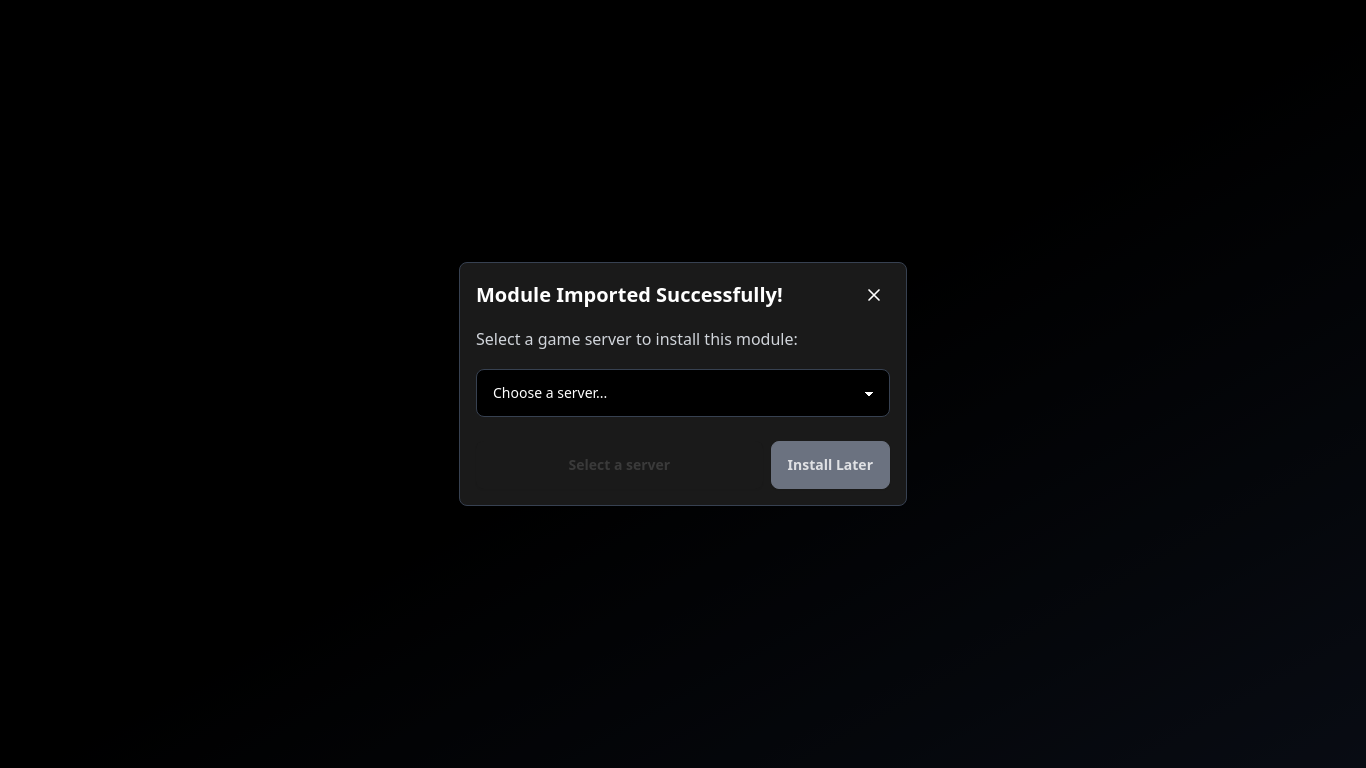
it: InstallModuleModal › enables install button only when server selected
The width and height of the screenshot is (1366, 768).
Expected: the button "Select a server" is disabled, [476, 441, 763, 489]
Select "Choose a server..." in the dropdown at {"x": 683, "y": 393}, box [476, 369, 890, 417]
Select "Test Server 1 (7d2d)" in the dropdown at {"x": 683, "y": 393}, box [476, 369, 890, 417]
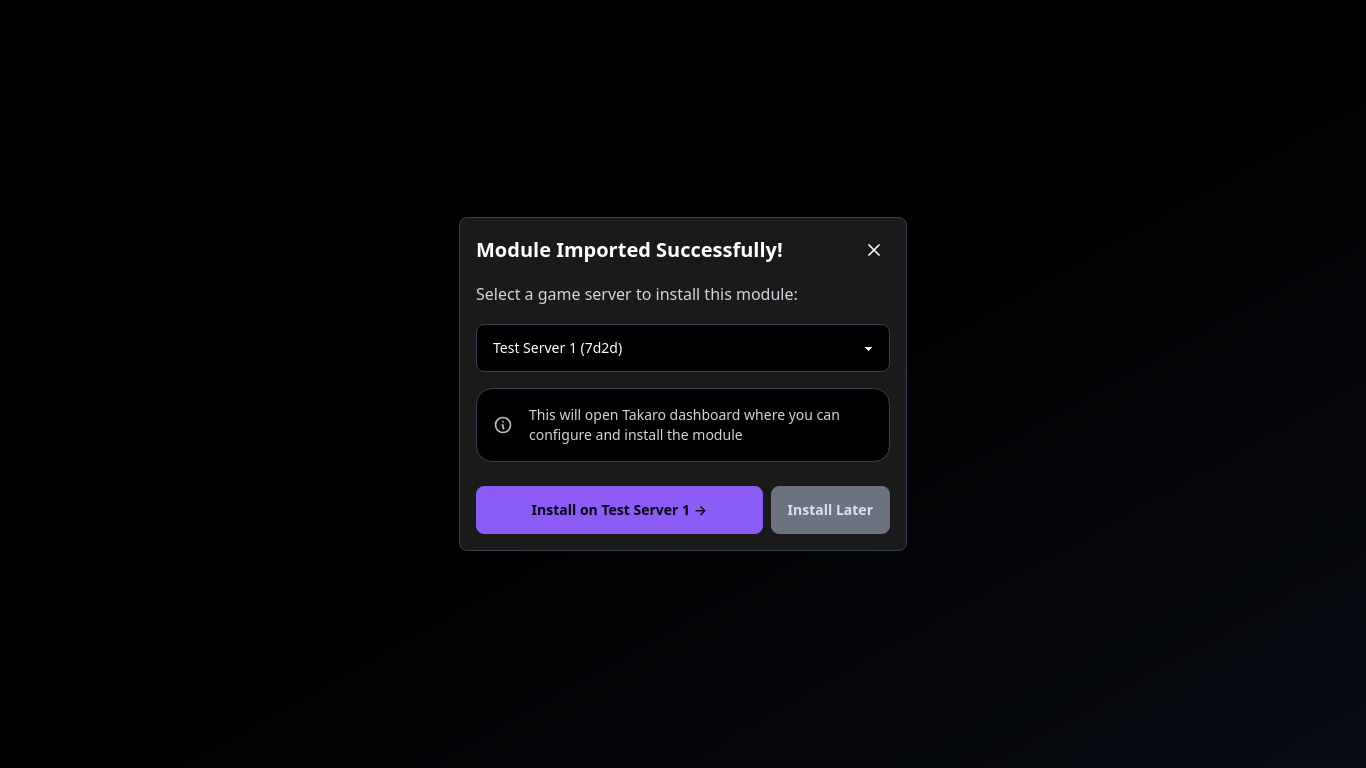
Result: the button "Install on Test Server 1 →" is enabled at [476, 486, 763, 534]
